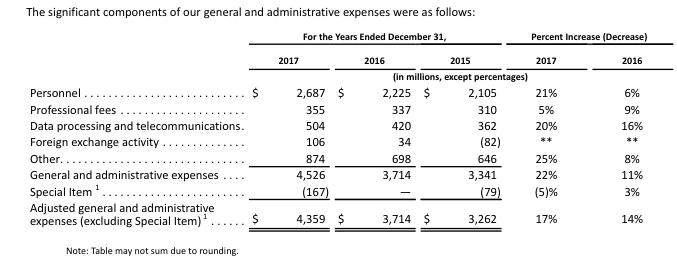table: (28, 29, 646, 227)
table column: (28, 29, 247, 227), (416, 29, 515, 227), (247, 29, 332, 227), (332, 29, 416, 227), (515, 29, 588, 227), (588, 29, 646, 227)
table column header: (28, 29, 646, 83)
table row: (28, 198, 646, 227), (28, 47, 646, 67), (28, 29, 646, 47), (28, 83, 646, 100), (28, 132, 646, 149), (28, 181, 646, 198), (28, 67, 646, 83), (28, 100, 646, 116), (28, 116, 646, 132), (28, 149, 646, 165), (28, 165, 646, 181)
table spanning cell: (247, 67, 646, 83), (247, 29, 515, 47), (515, 29, 646, 47)
